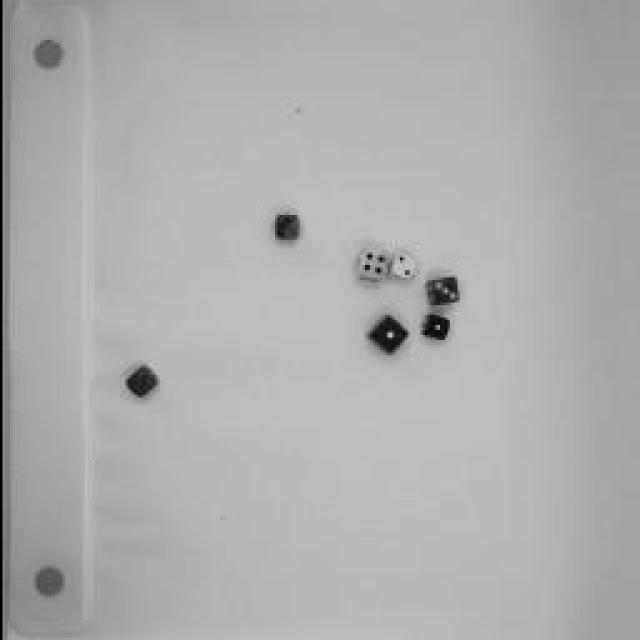dice_1: (356, 304, 412, 358), (418, 312, 452, 348)
dice_2: (118, 358, 160, 402), (384, 250, 416, 280)
dice_3: (421, 270, 459, 310)
dice_4: (345, 246, 390, 286)
dice_5: (266, 210, 302, 242)
